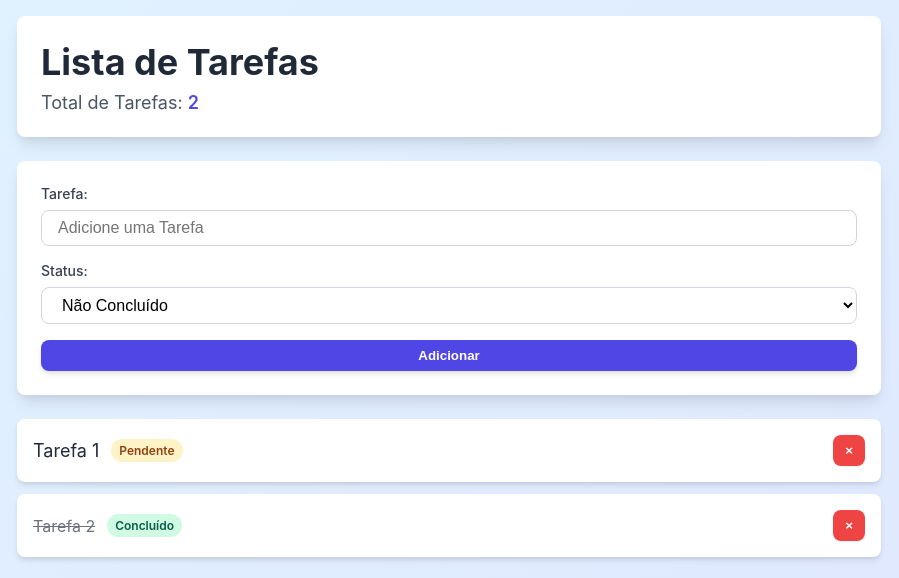
TodoApp › deve atualizar o contador quando uma tarefa é removida
Expected: the text "Total de Tarefas: 2" is shown, [41,92,199,113]
What coordinates should you click on to do the following:
click the button named "Excluir tarefa"
I would click on:
 (849, 450)
Its box is [833,435,865,466].
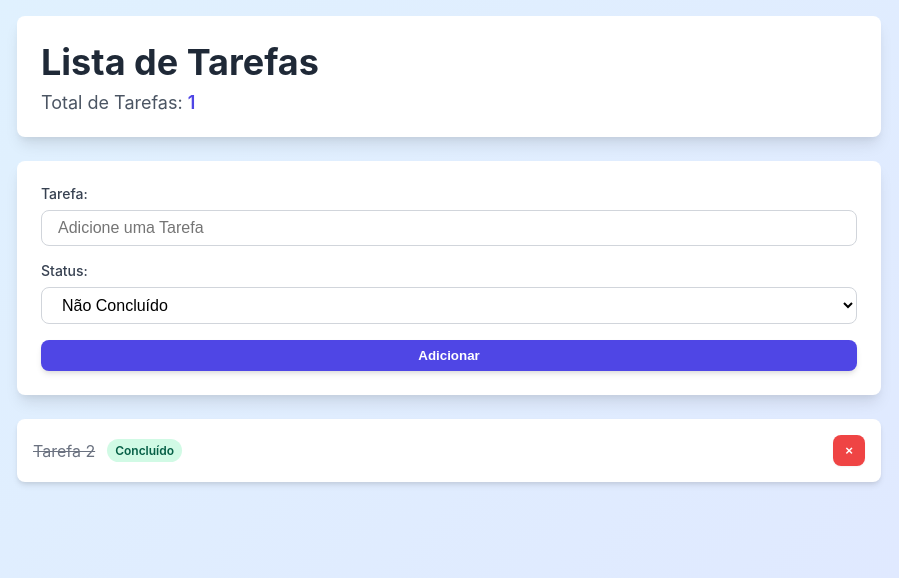
Now the text "Total de Tarefas: 1" is shown, box [41,92,195,113]
